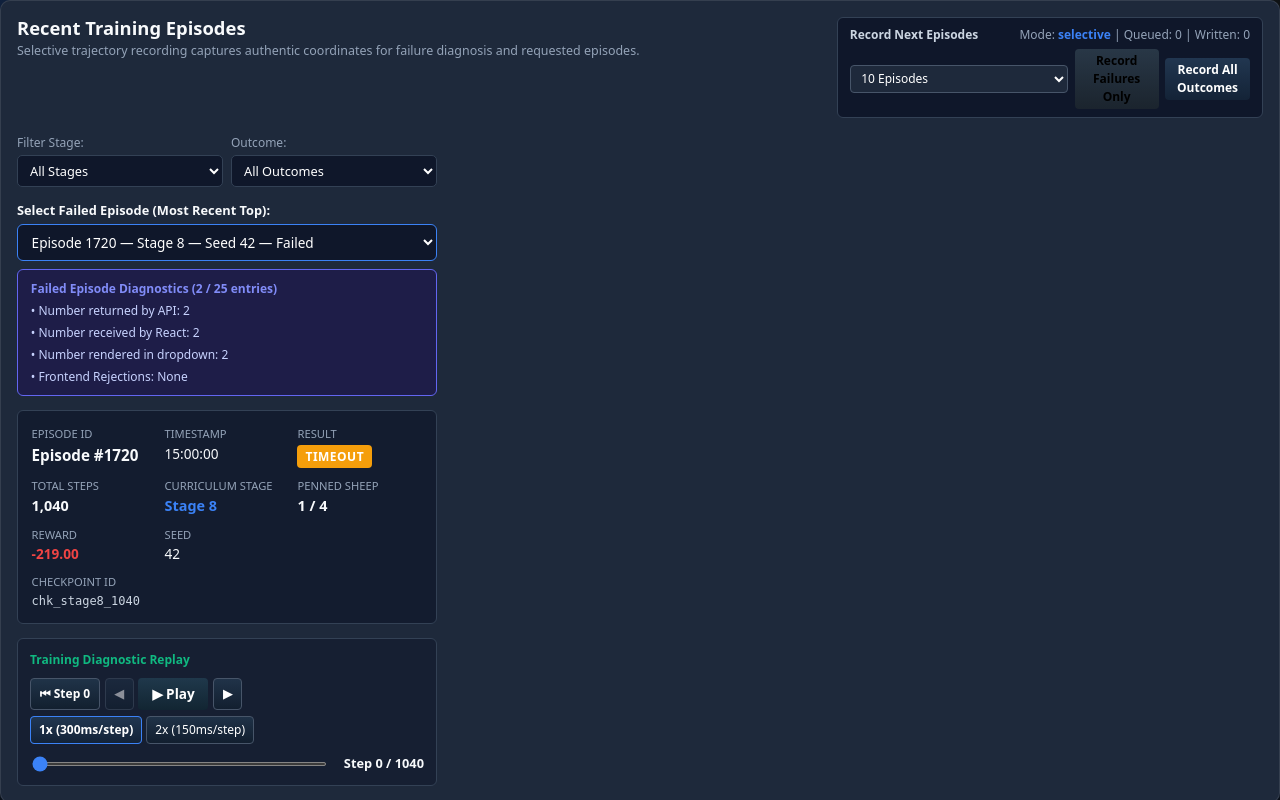
Test: RecentEpisodesViewer UI Integration Tests › 6 & 7 & 12. Displays real step counts (1040 & 938) and scalar details without fabricating grid coordinates
This screenshot has width=1280, height=800.
Expected: the text "Episode #1720" is shown, [32,444,156,466]
Expected: the text "1,040" is shown, [32,496,69,515]
// Select second episode (1704 with 938 steps)
Select "Episode 1704 — Stage 8 — Seed 260 — Failed" in the dropdown named "Recent Episodes Selector" at [227, 242], box [17,224,437,261]
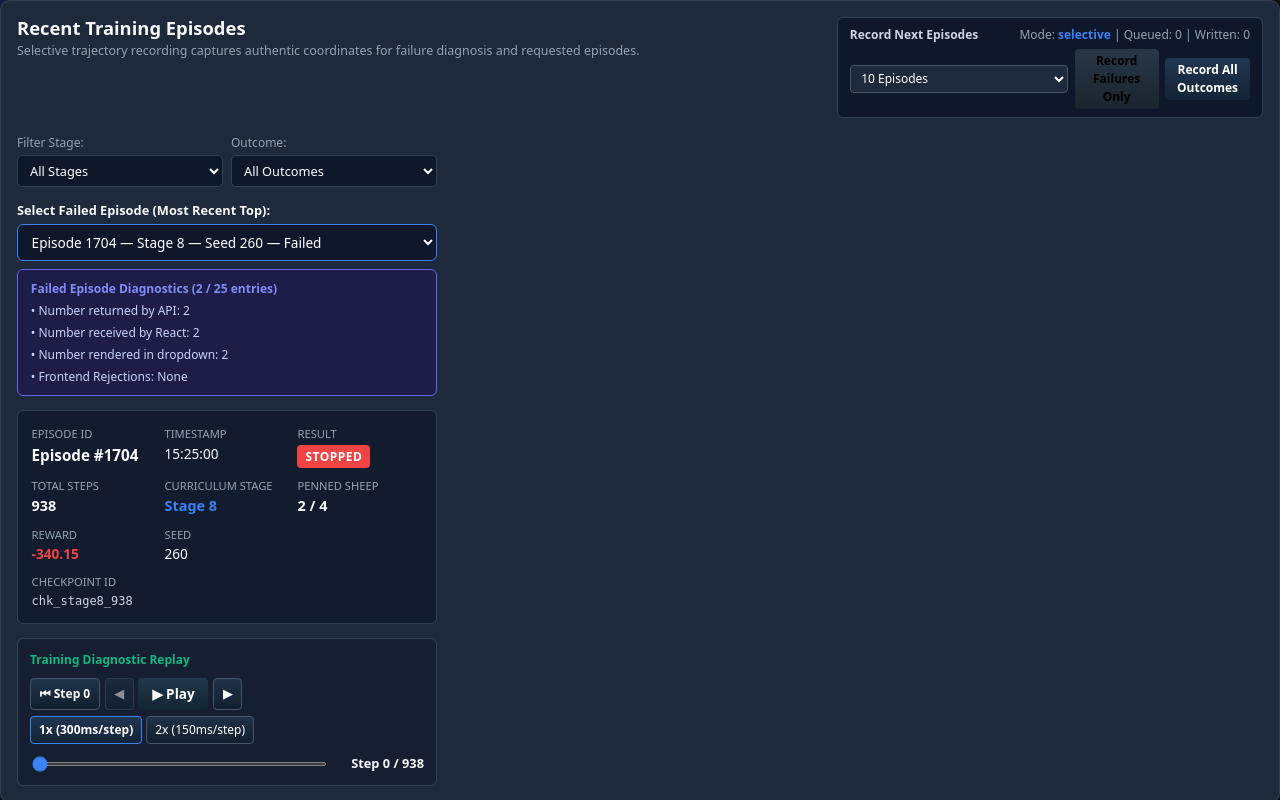
Now the text "Episode #1704" is shown, box [32,444,156,466]
Now the text "938" is shown, box [32,496,56,515]
